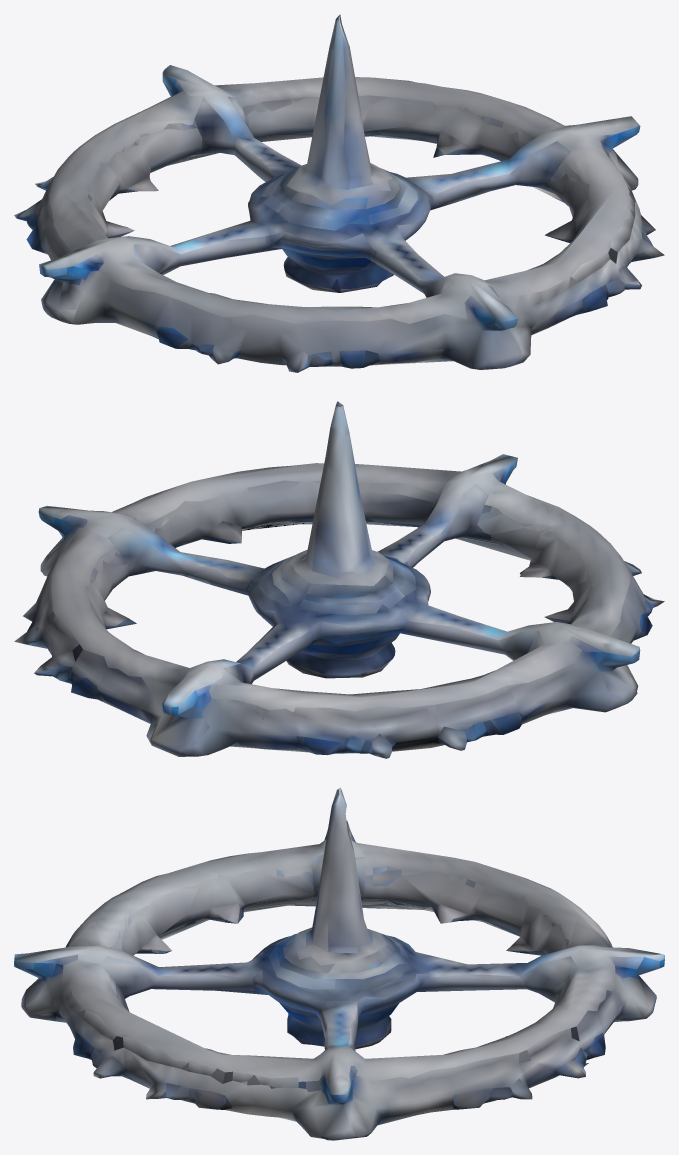
File: alliance_starbase_lod2.glb
3 views of the same model, one above another, from view 1: azimuth 30°, elevation 25°; view 2: azimuth 150°, elevation 25°; view 3: azimuth 270°, elevation 25° (orthographic). The views are drawn at different scales.
Parts seen in each view (by area): view 1: model; view 2: model; view 3: model.
Boxes of the visible parts, x1,y1,x2,y2 form: model: [14, 14, 664, 372]; model: [14, 401, 664, 758]; model: [14, 787, 664, 1140].
Bounding box in the file's own units: 1.87 × 0.7796 × 1.87.
Materials: 1 (1 with a texture image).
